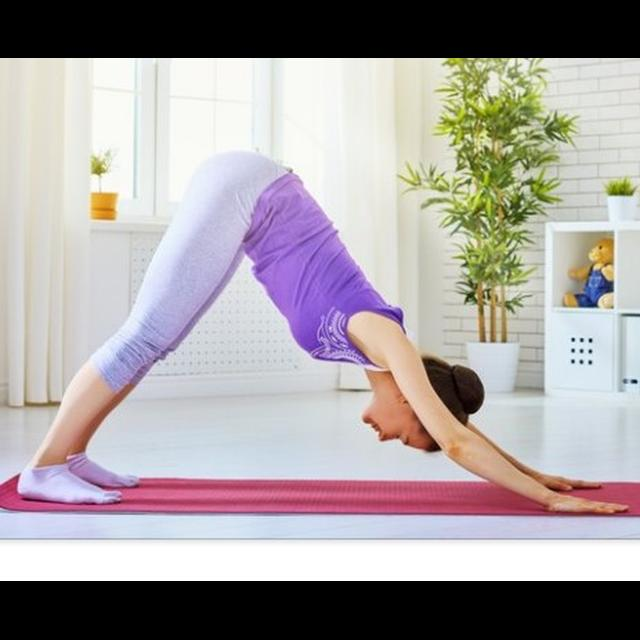Downward-Facing_Dog: (15, 149, 631, 516)
